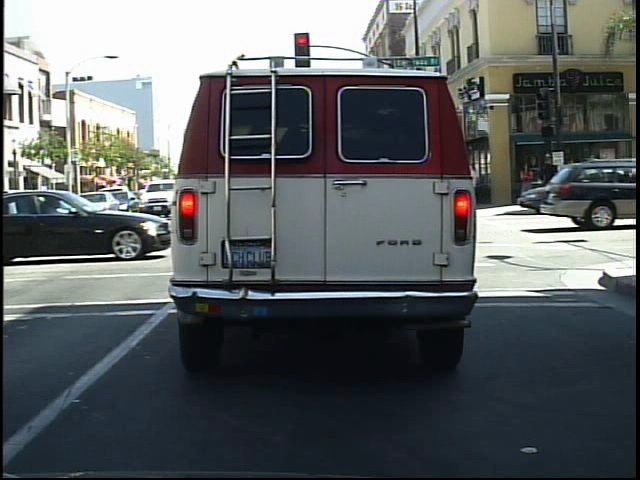person: (537, 154, 561, 209), (540, 147, 561, 209), (516, 157, 539, 208), (555, 158, 575, 208)
